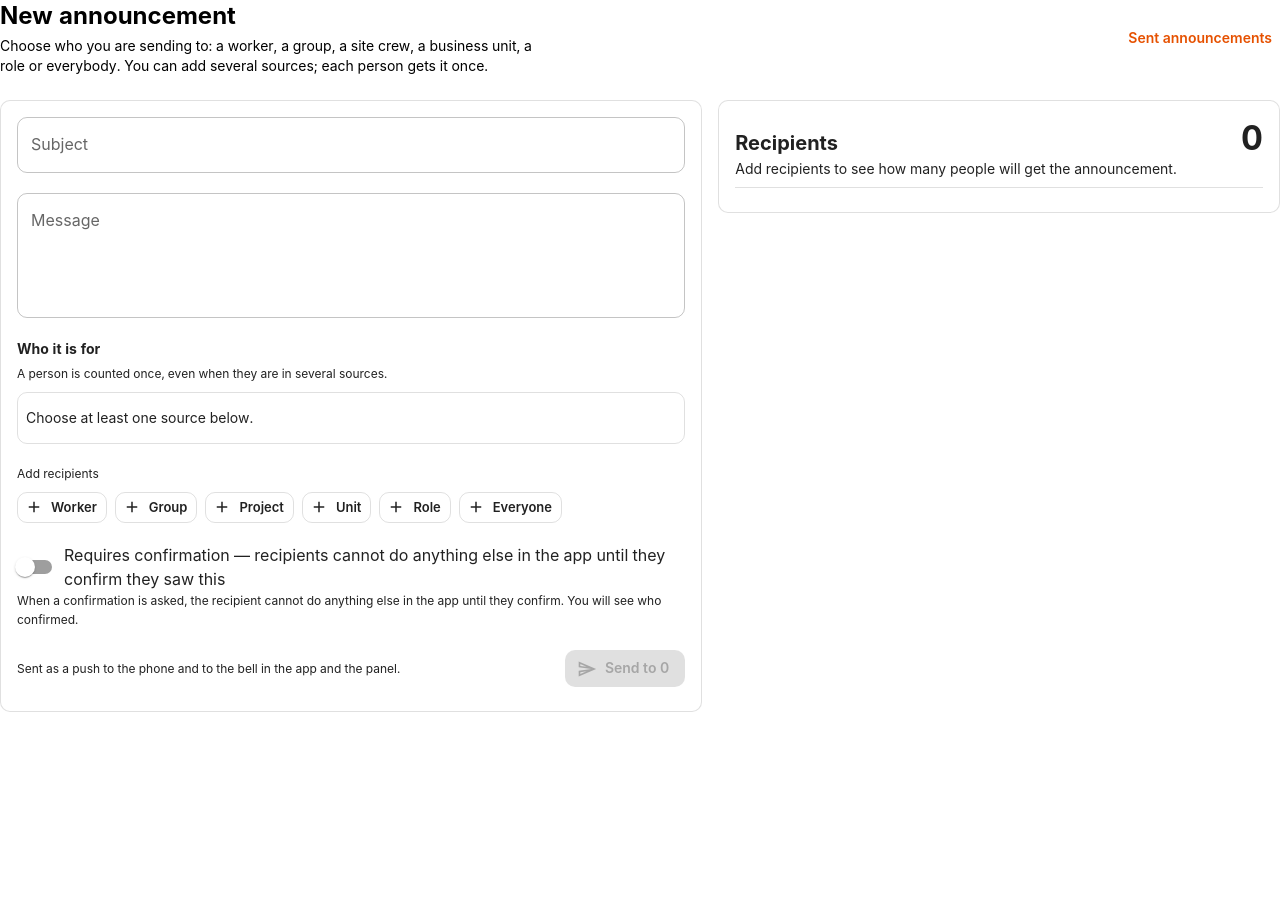
NewAnnouncementPage › asks before sending to everyone
Click the button "Everyone": (510, 507) [459,492,562,523]
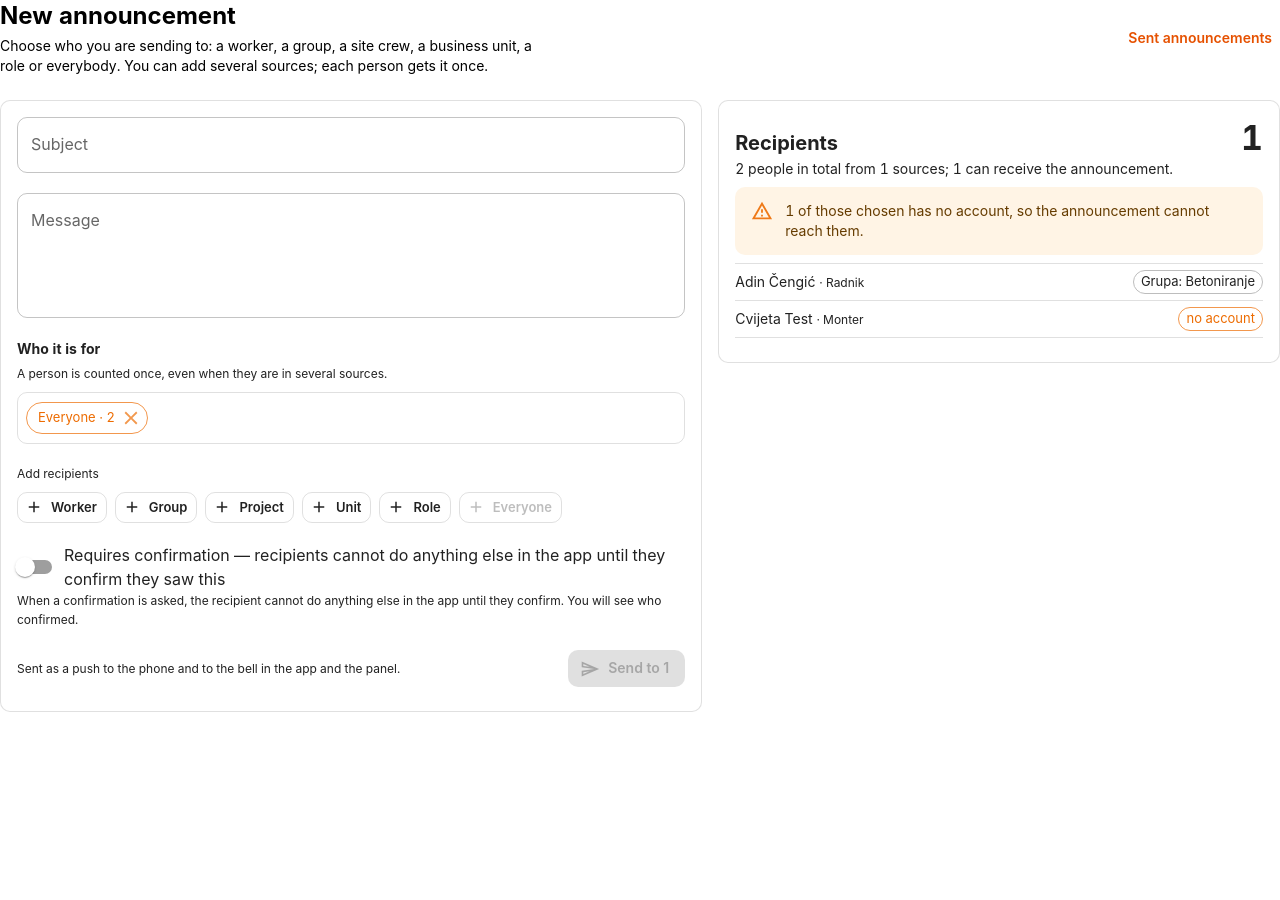
Expected: the text "Adin Čengić" is shown, [735,273,816,290]
In the field labelled "Subject": (351, 145) [17,117,685,173], type "Važno"
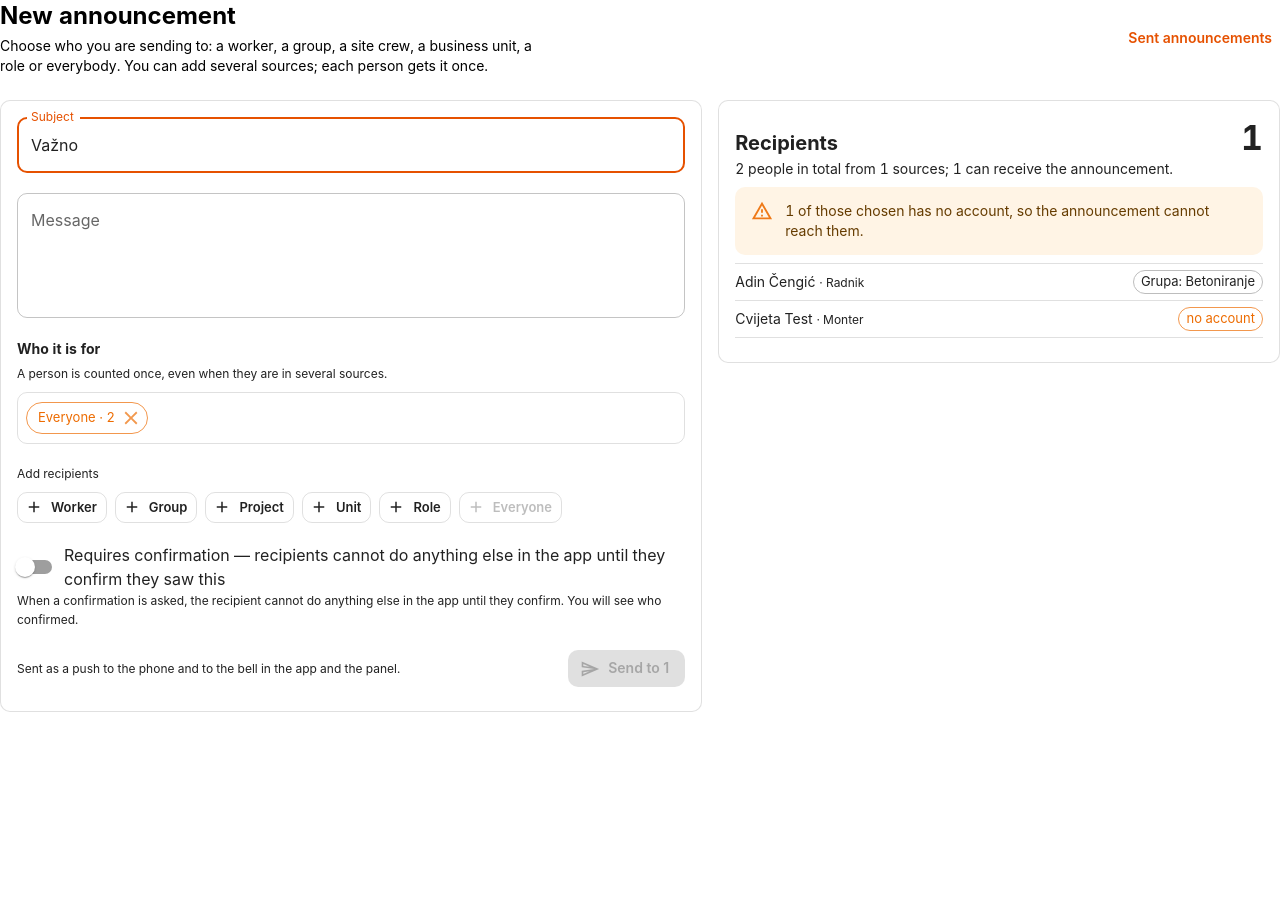
In the text box labelled "Message": (351, 256) [31,210,671,302], type "Svima."
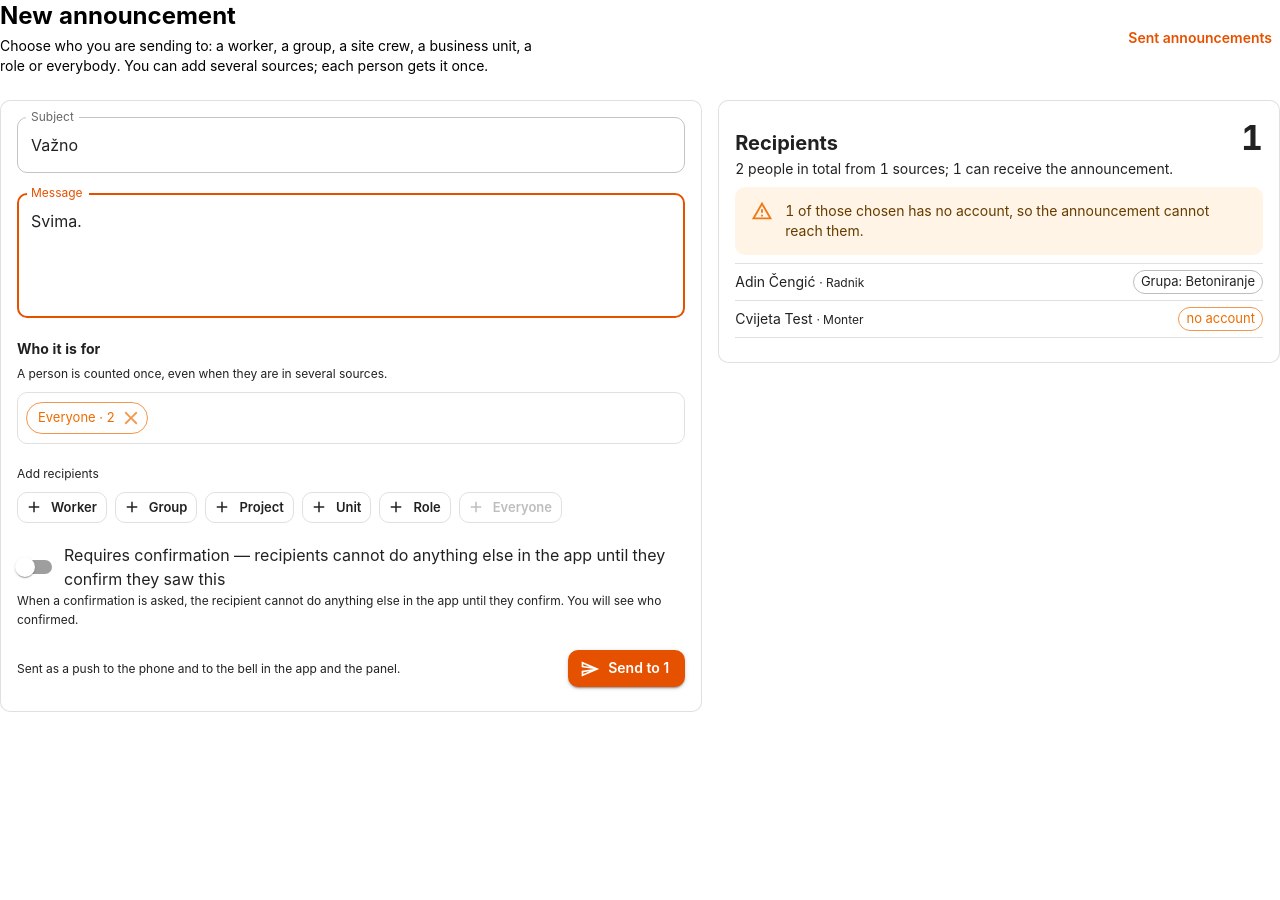
Click the button "Send to 1": (627, 669) [568,650,685,687]
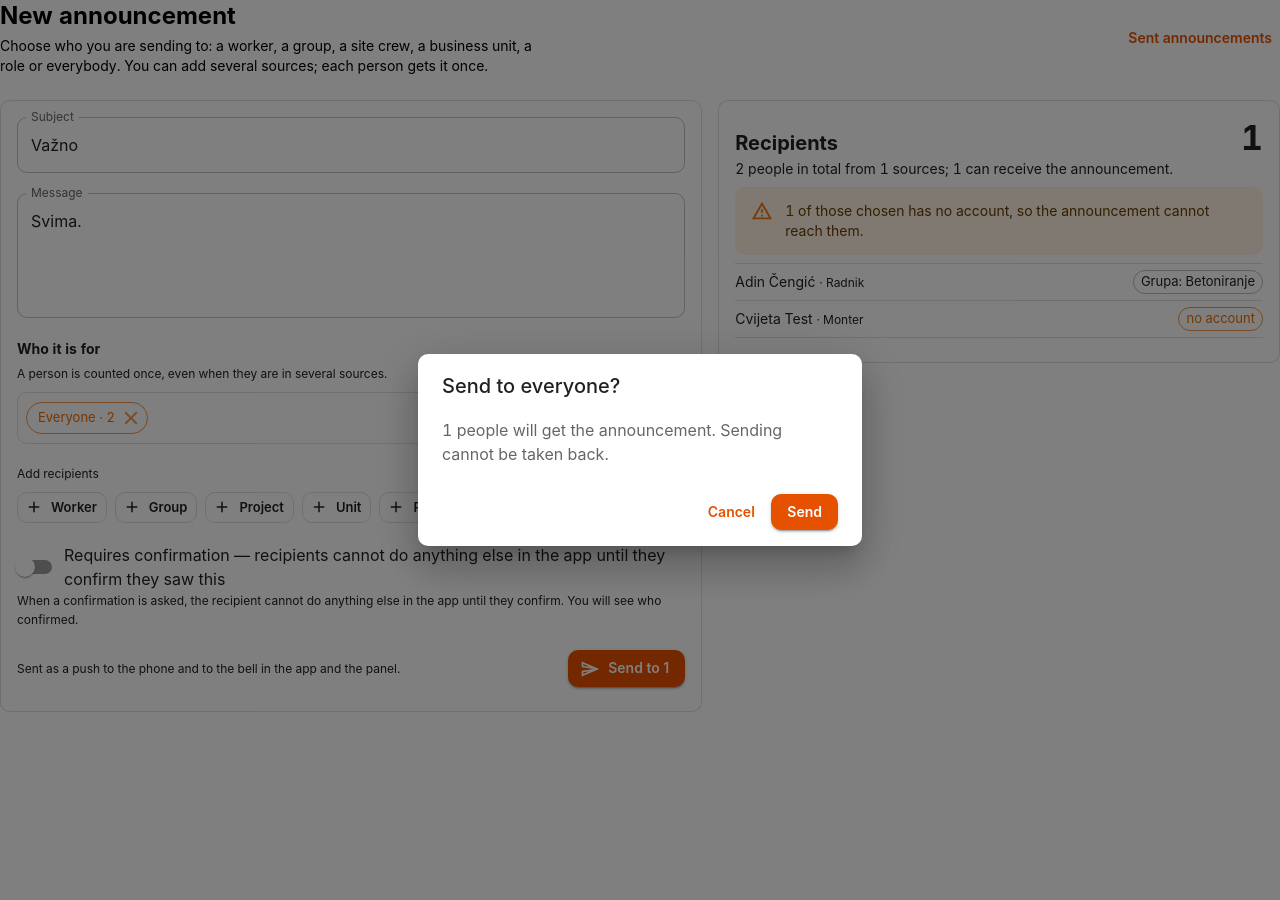
Expected: the dialog is shown, [418,354,862,546]
